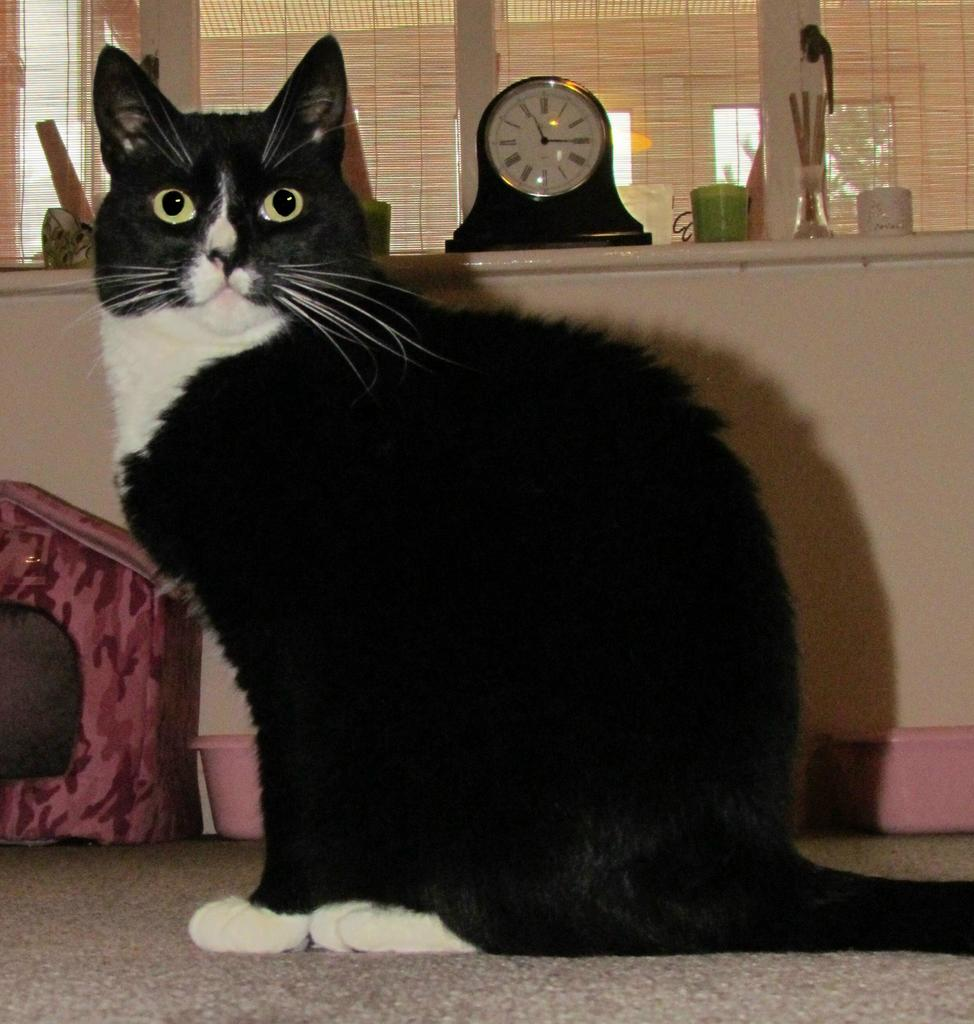cat: (31, 26, 905, 980)
